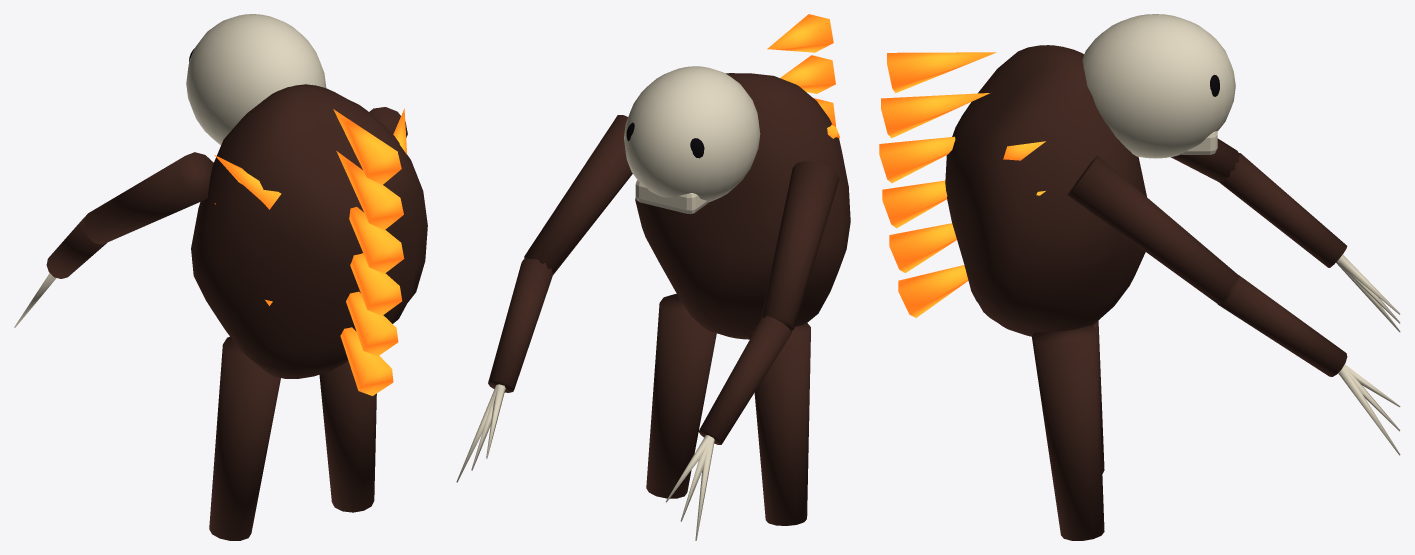
Rendered from ghoul.glb.
3 renders of one model, left to right at view 1: azimuth 30°, elevation 25°; view 2: azimuth 150°, elevation 25°; view 3: azimuth 270°, elevation 25°, orthographic. The views are drawn at different scales.
Parts seen in each view (by area): view 1: Body; view 2: Body; view 3: Body.
Part boxes in pixels (box(x1,y1,x2,y2)): Body: box(14, 14, 427, 540); Body: box(456, 14, 850, 540); Body: box(879, 14, 1400, 540).
Bounding box in the file's own units: 0.8972 × 1.47 × 1.43.
